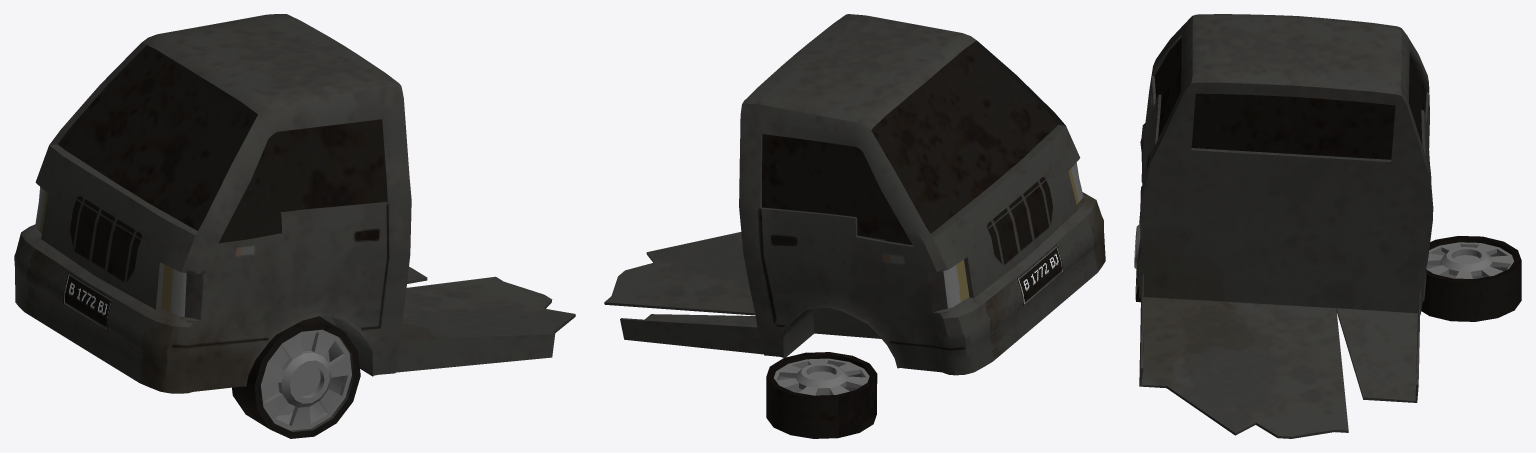
The model's file is P_CAR_WRECKED TRUCK1.fbx.
The picture shows the model from 3 angles, left to right: view 1: azimuth 30°, elevation 25°; view 2: azimuth 150°, elevation 25°; view 3: azimuth 270°, elevation 25°; orthographic projection. The views are drawn at different scales.
Visible parts, largest first — view 1: Car_Wrecked_Truck_1; view 2: Car_Wrecked_Truck_1; view 3: Car_Wrecked_Truck_1.
Boxes of the visible parts, x1,y1,x2,y2 form: Car_Wrecked_Truck_1: [14, 14, 575, 438]; Car_Wrecked_Truck_1: [604, 14, 1105, 438]; Car_Wrecked_Truck_1: [1134, 14, 1521, 438].
Bounding box in the file's own units: 358 × 230 × 287.
